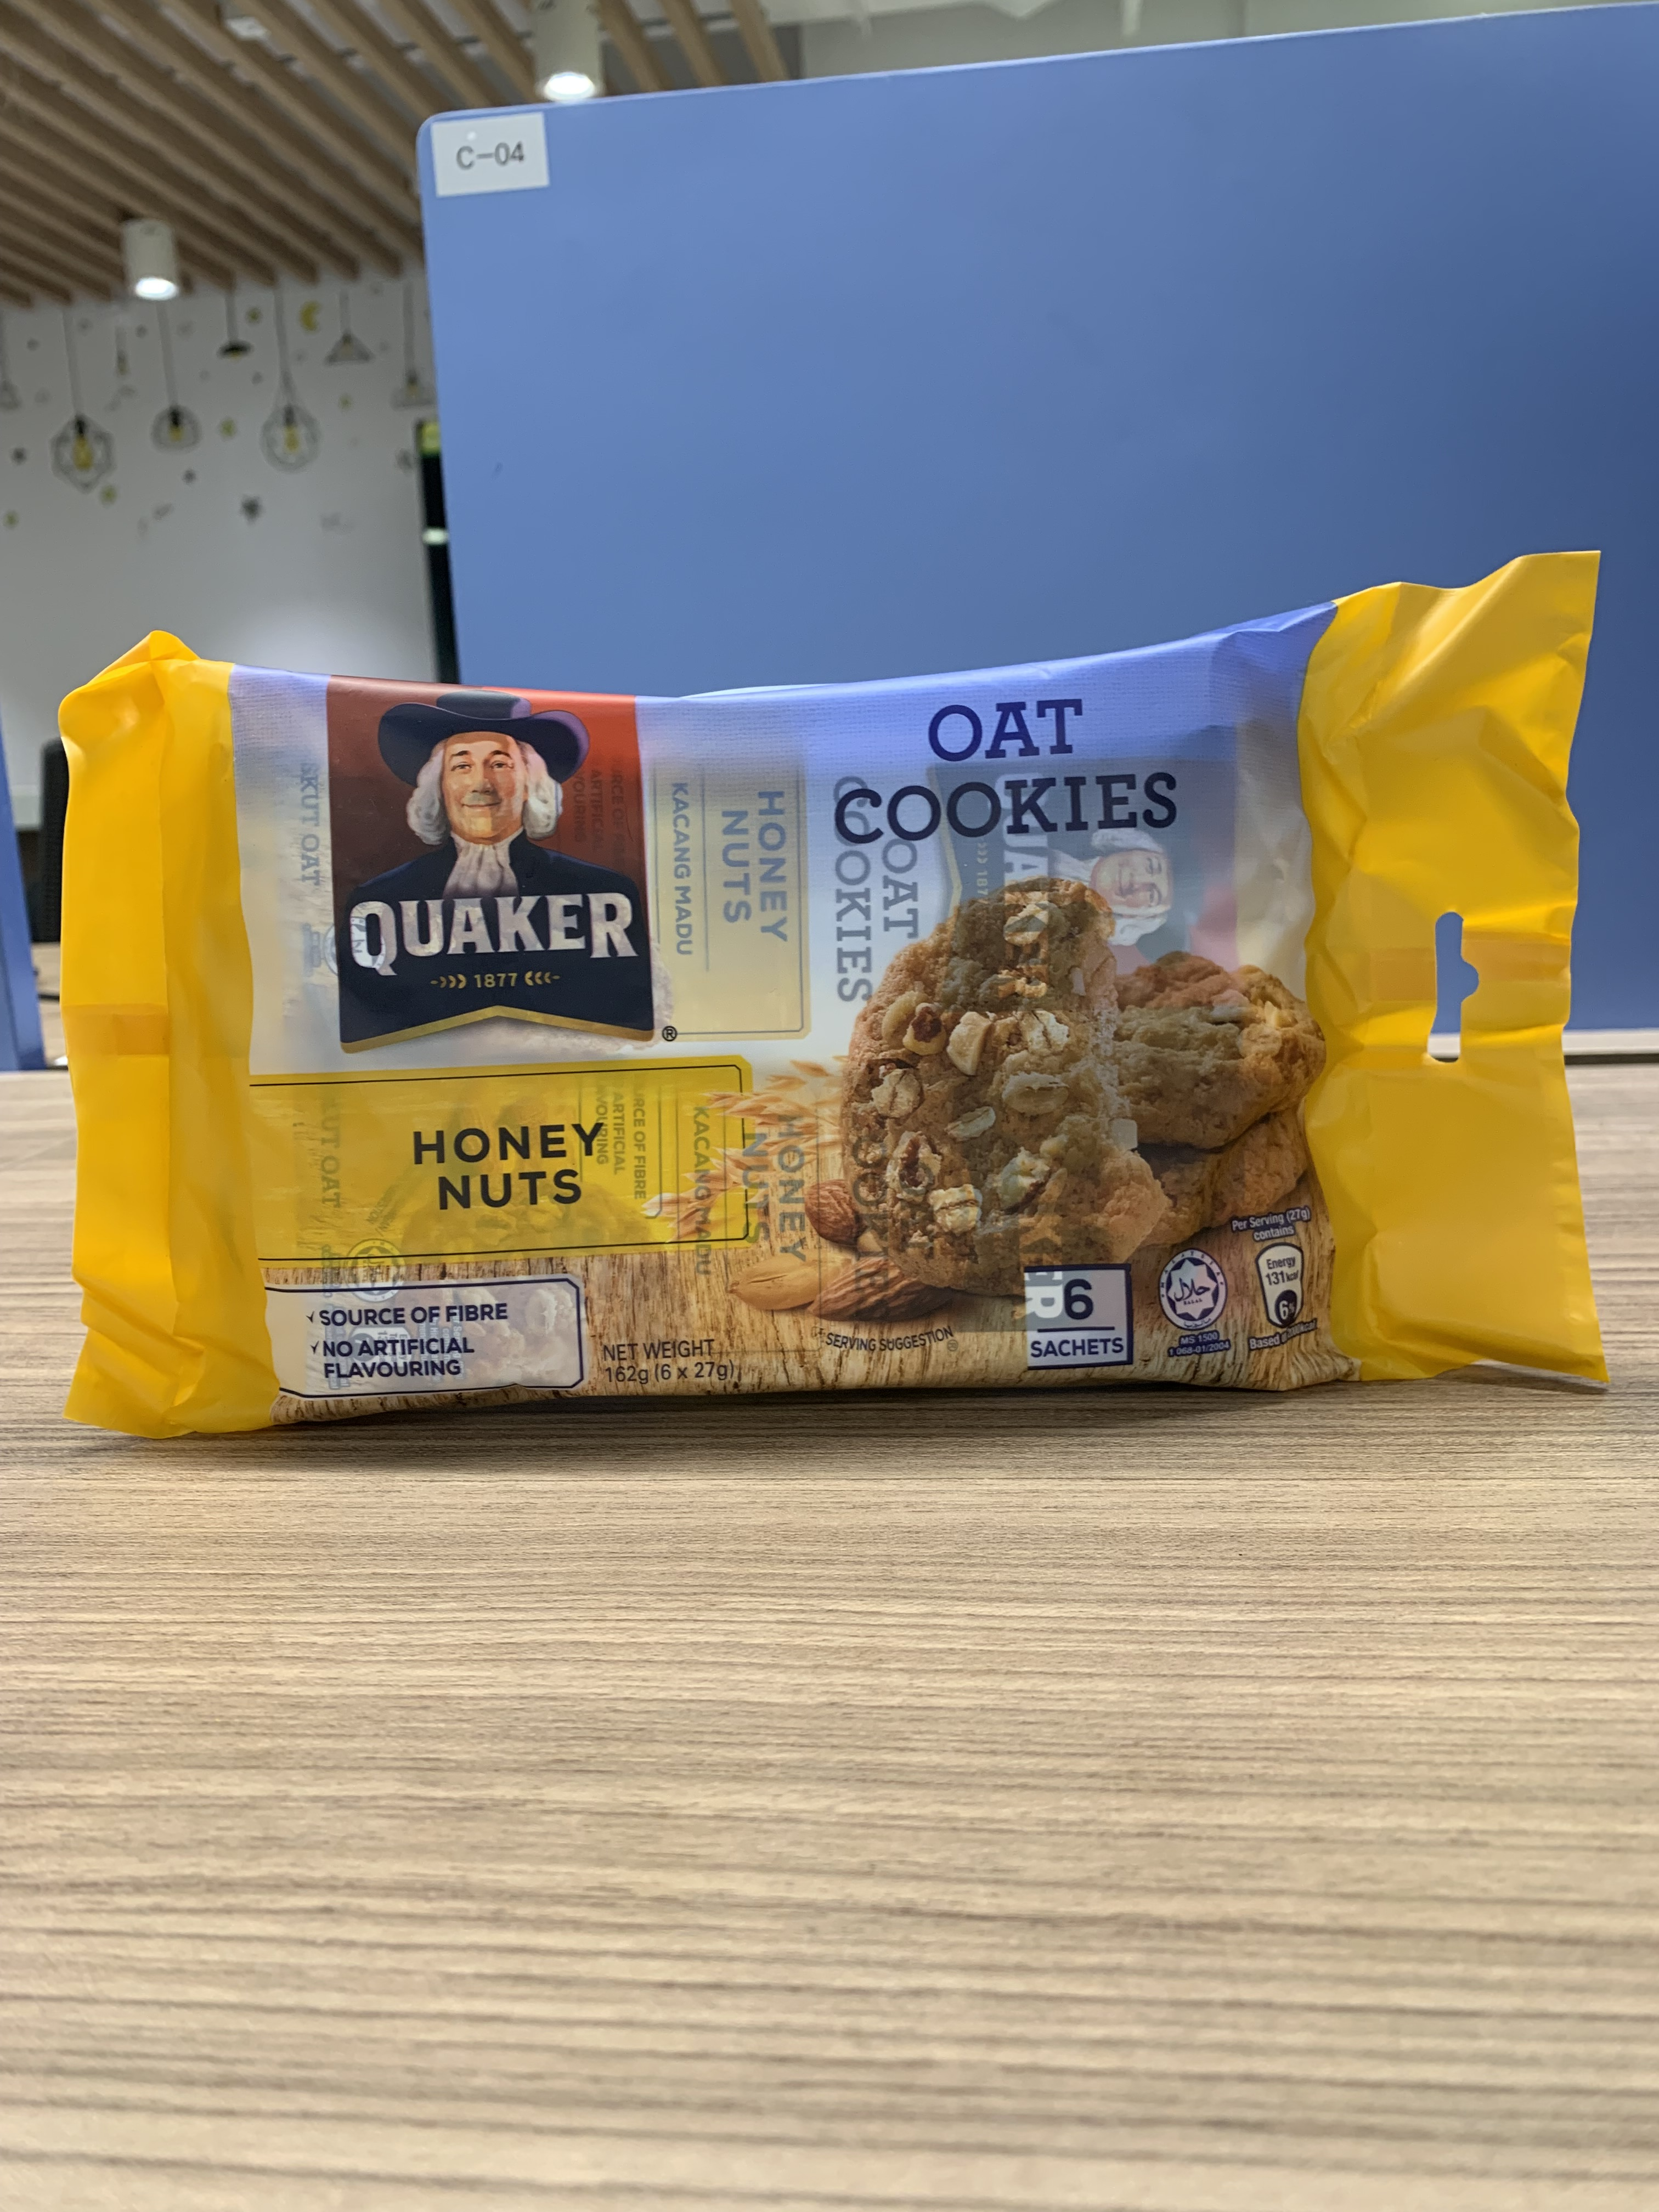halal: (1161, 1252, 1223, 1329)
